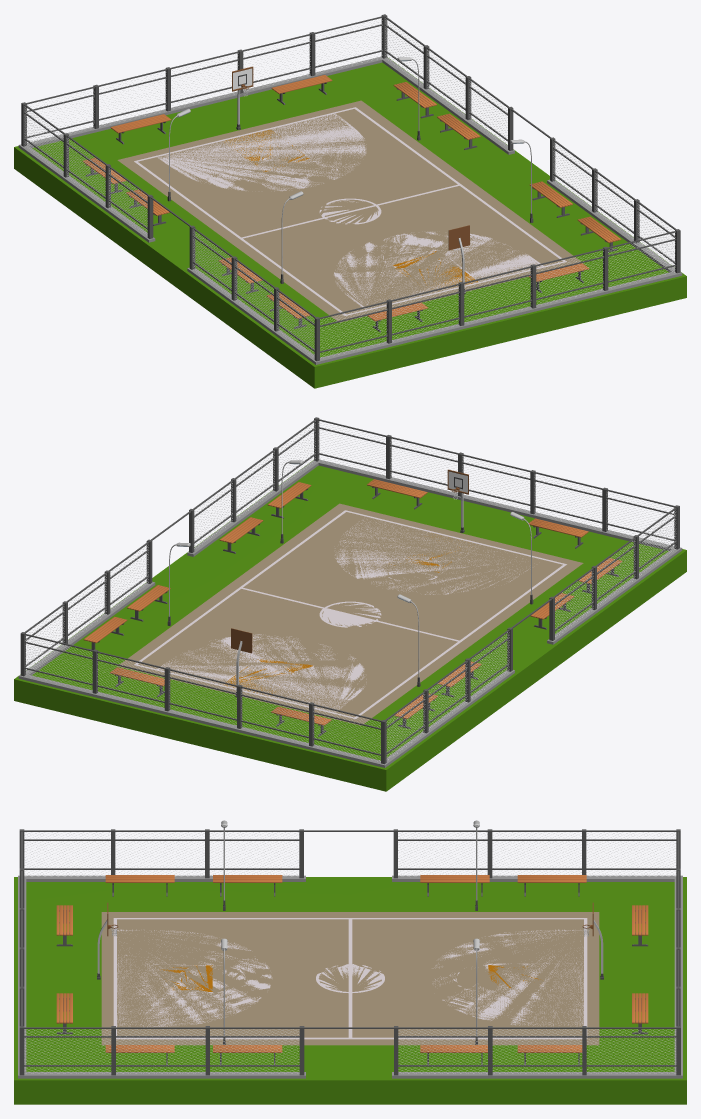
Rendered from Court.fbx.
3 renders of one model, top to bottom at view 1: azimuth 30°, elevation 25°; view 2: azimuth 150°, elevation 25°; view 3: azimuth 270°, elevation 25°, orthographic. The views are drawn at different scales.
Parts seen in each view (by area): view 1: Cube.007, Cube.006, Cube.005, Cube.001, Cylinder.001, base, Cube.020, Cube.019, Cube.016, Cube.018; view 2: Cube.007, Cube.006, Cube.005, Cube.001, Cylinder.001, base, Cube.022, Cube.021, Cube.016, Cube.017, Cube.015; view 3: Cube.007, Cube.006, Cube.005, Cube.001, base, Cylinder.001, Cube.014, Cube.004, Cube.021, Cube.019, Cube.003, Cube.002 (+6 smaller).
Boxes of the visible parts, x1,y1,x2,y2 form: Cube.007: (14,57,686,388); Cube.006: (24,18,675,357); Cube.005: (21,14,680,361); Cube.001: (18,56,682,364); Cylinder.001: (232,66,469,294); base: (167,57,533,283); Cube.020: (271,75,332,104); Cube.019: (110,114,171,144); Cube.016: (529,181,572,217); Cube.018: (393,82,436,118); Cube.007: (14,460,686,791); Cube.006: (25,421,676,761); Cube.005: (20,417,679,764); Cube.001: (18,459,682,767); Cylinder.001: (231,469,468,697); base: (167,460,533,686); Cube.022: (367,479,427,509); Cube.021: (528,518,588,548); Cube.016: (219,517,263,553); Cube.017: (267,482,311,518); Cube.015: (127,585,170,621); Cube.007: (14,877,686,1104); Cube.006: (24,832,676,1073); Cube.005: (19,829,680,1075); Cube.001: (18,875,682,1078); base: (221,820,479,1044); Cylinder.001: (97,902,603,979); Cube.014: (517,875,586,896); Cube.004: (105,875,174,896); Cube.021: (56,905,72,946); Cube.019: (632,905,648,946); Cube.003: (213,875,282,896); Cube.002: (420,875,489,896).
Size of the model in its own units: 2398 by 757 by 3353.
